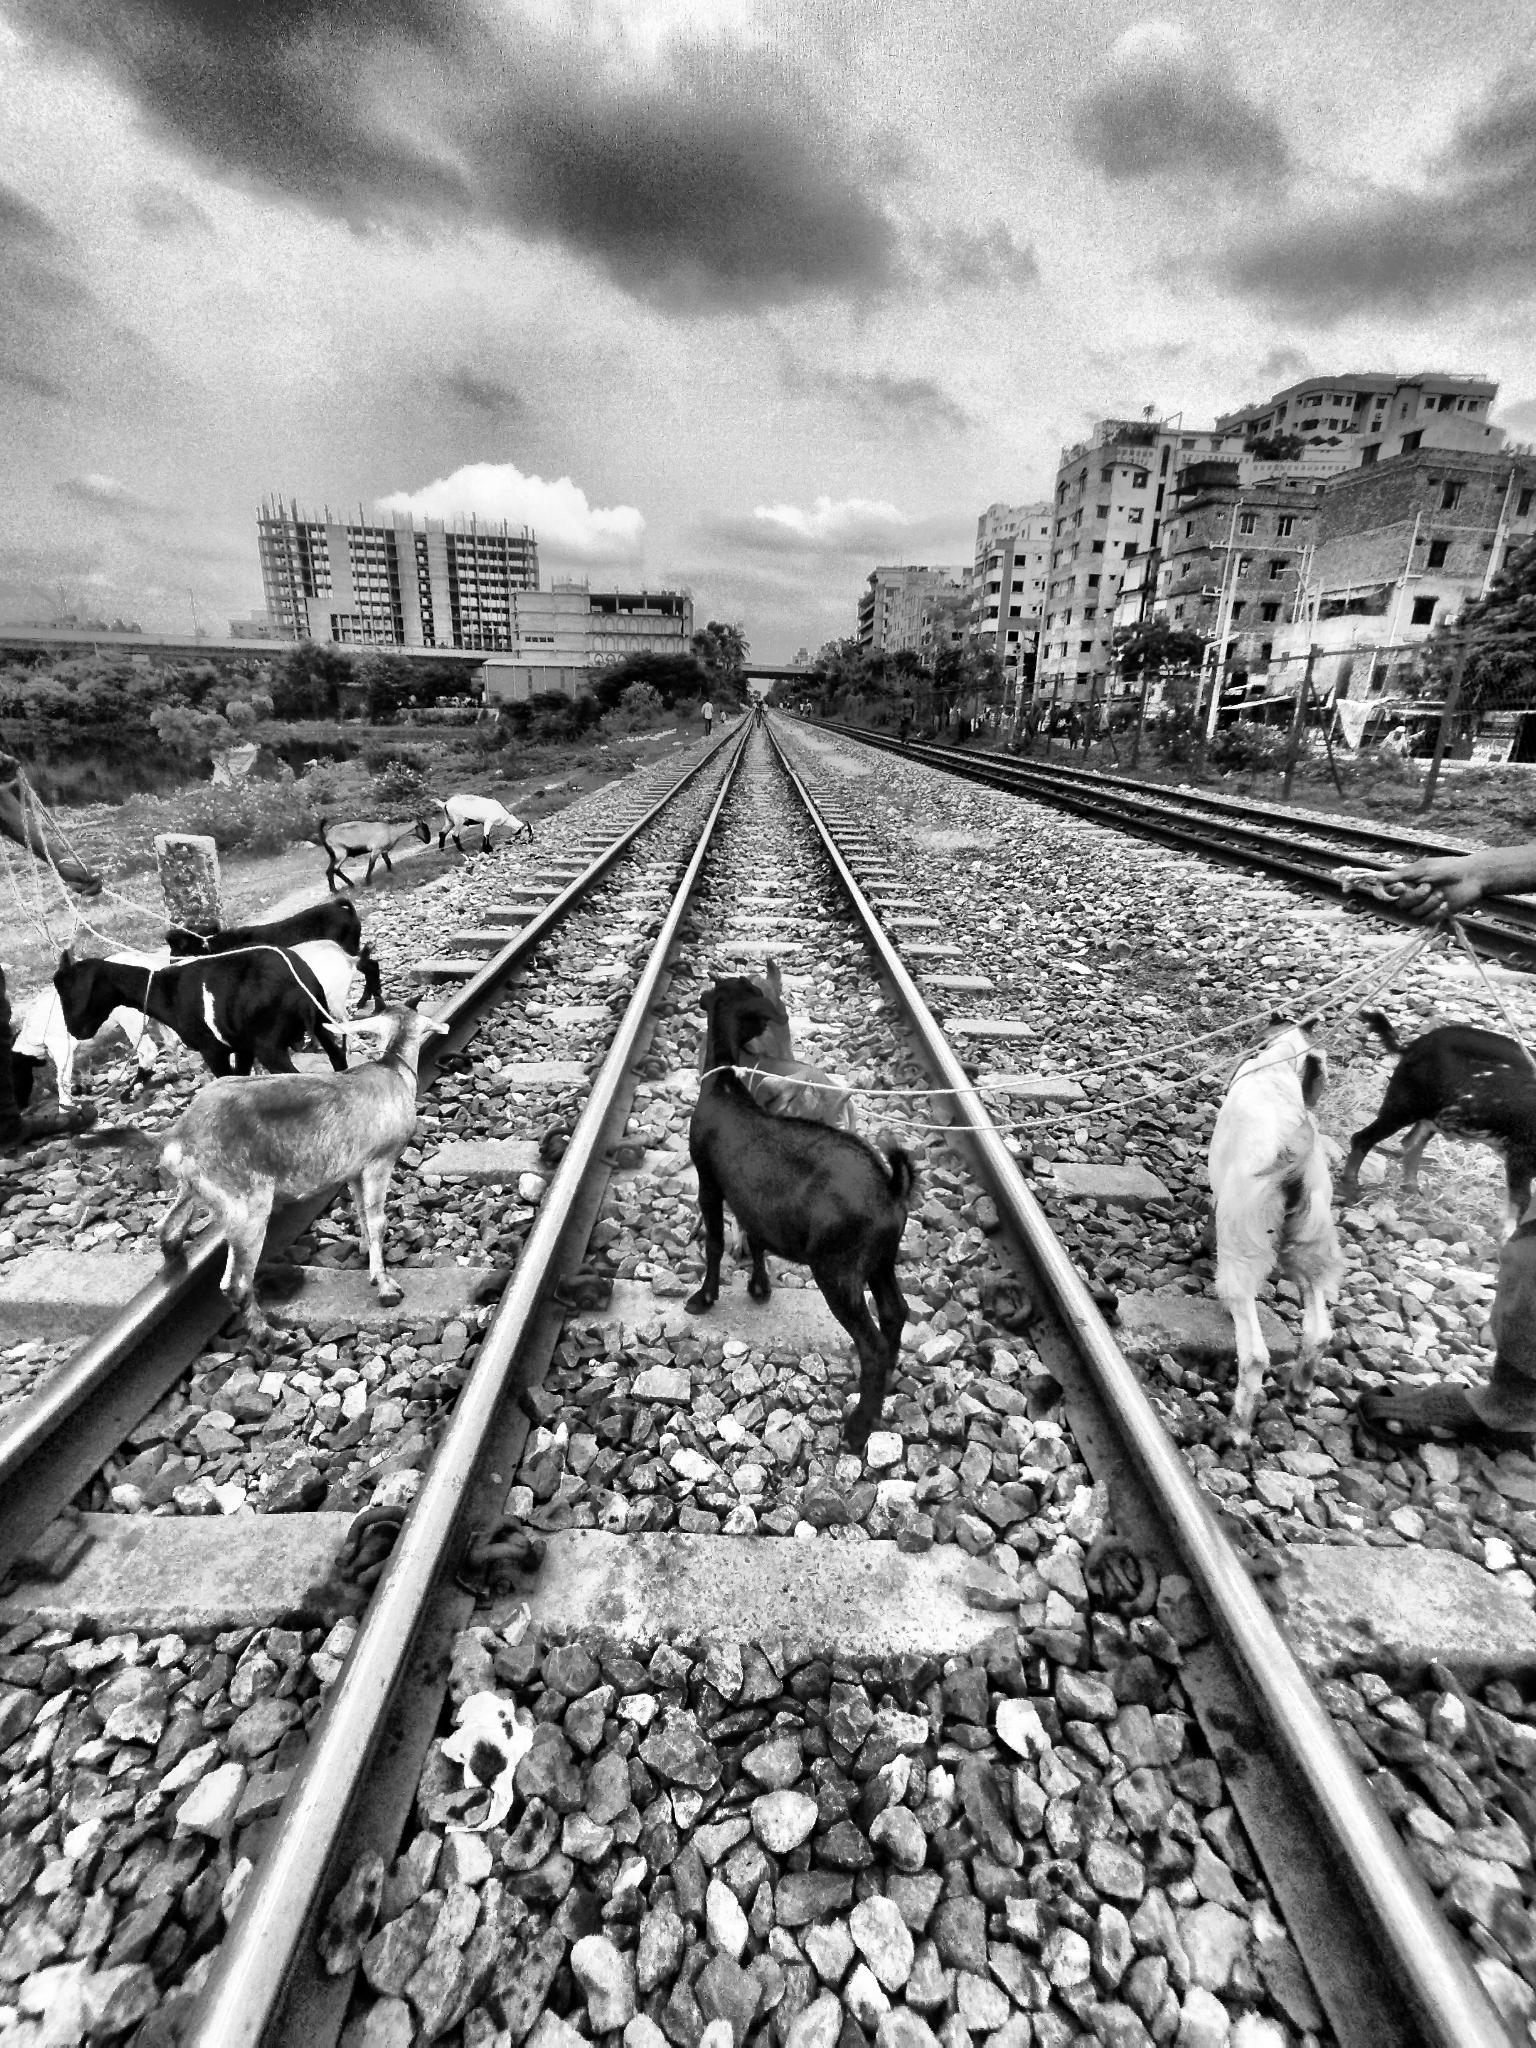Animal: (674, 958, 957, 1458), (129, 976, 452, 1327), (1179, 989, 1341, 1440), (44, 898, 376, 1050), (1342, 989, 1533, 1201), (298, 793, 432, 890), (434, 782, 531, 872)
